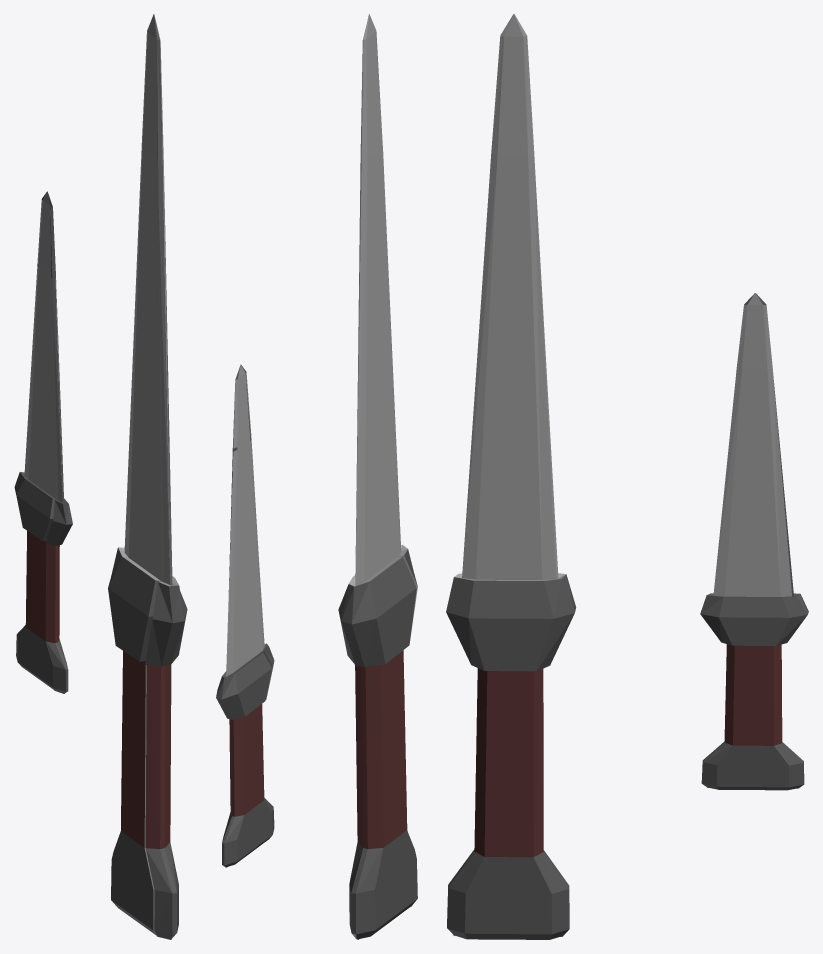
File: dagger2.fbx
3 renders of one model, left to right at view 1: azimuth 30°, elevation 25°; view 2: azimuth 150°, elevation 25°; view 3: azimuth 270°, elevation 25°, orthographic. The views are drawn at different scales.
Parts seen in each view (by area): view 1: pCube1, pCube4; view 2: pCube1, pCube4; view 3: pCube1, pCube4.
Part boxes in pixels (x1,y1,x2,y2): pCube1: (108,14,187,939); pCube4: (14,191,72,693); pCube1: (338,14,417,939); pCube4: (216,364,274,867); pCube1: (446,14,576,939); pCube4: (700,293,808,790).
Size of the model in its own units: 0.1244 by 2.43 by 0.8605.
